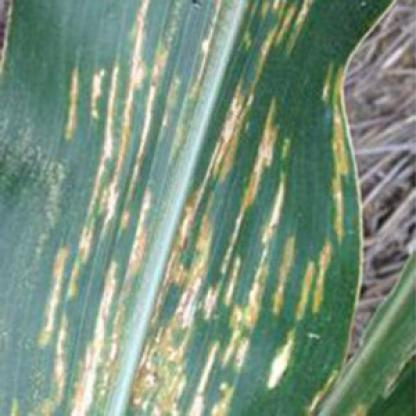corn leaf blight: (4, 1, 367, 415)
